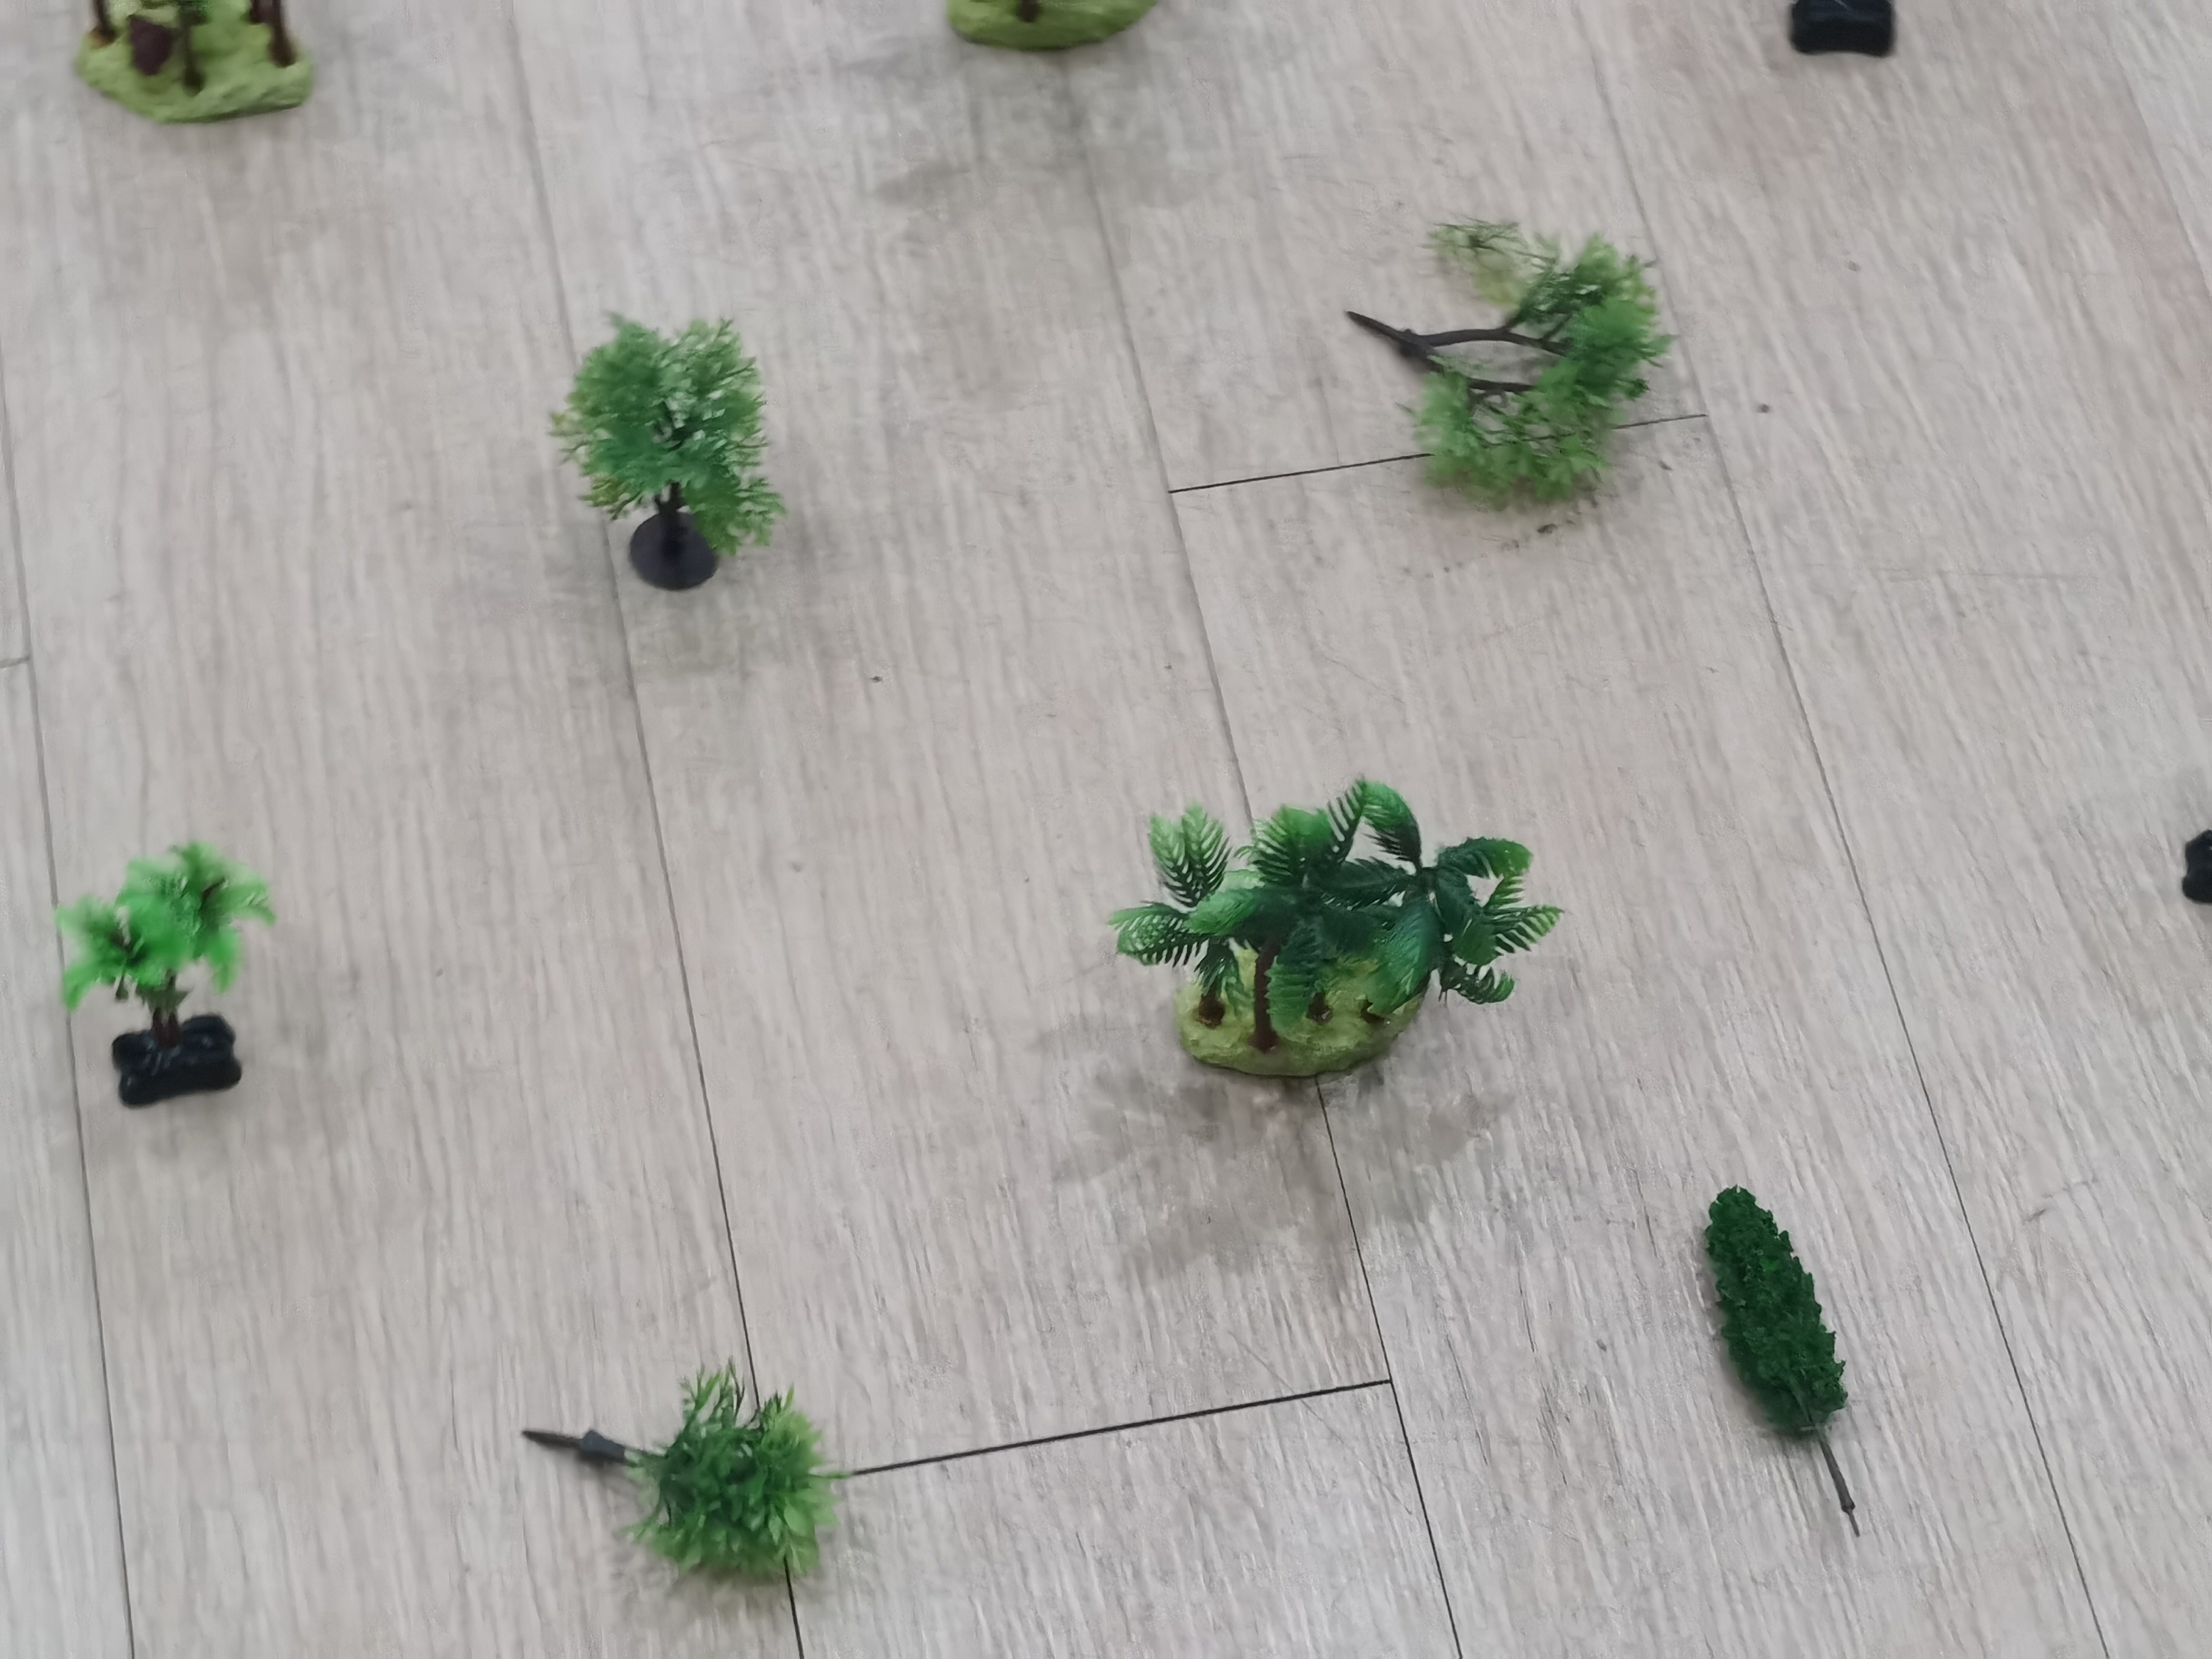corn: (1109, 789, 1538, 1061), (64, 838, 268, 1110)
